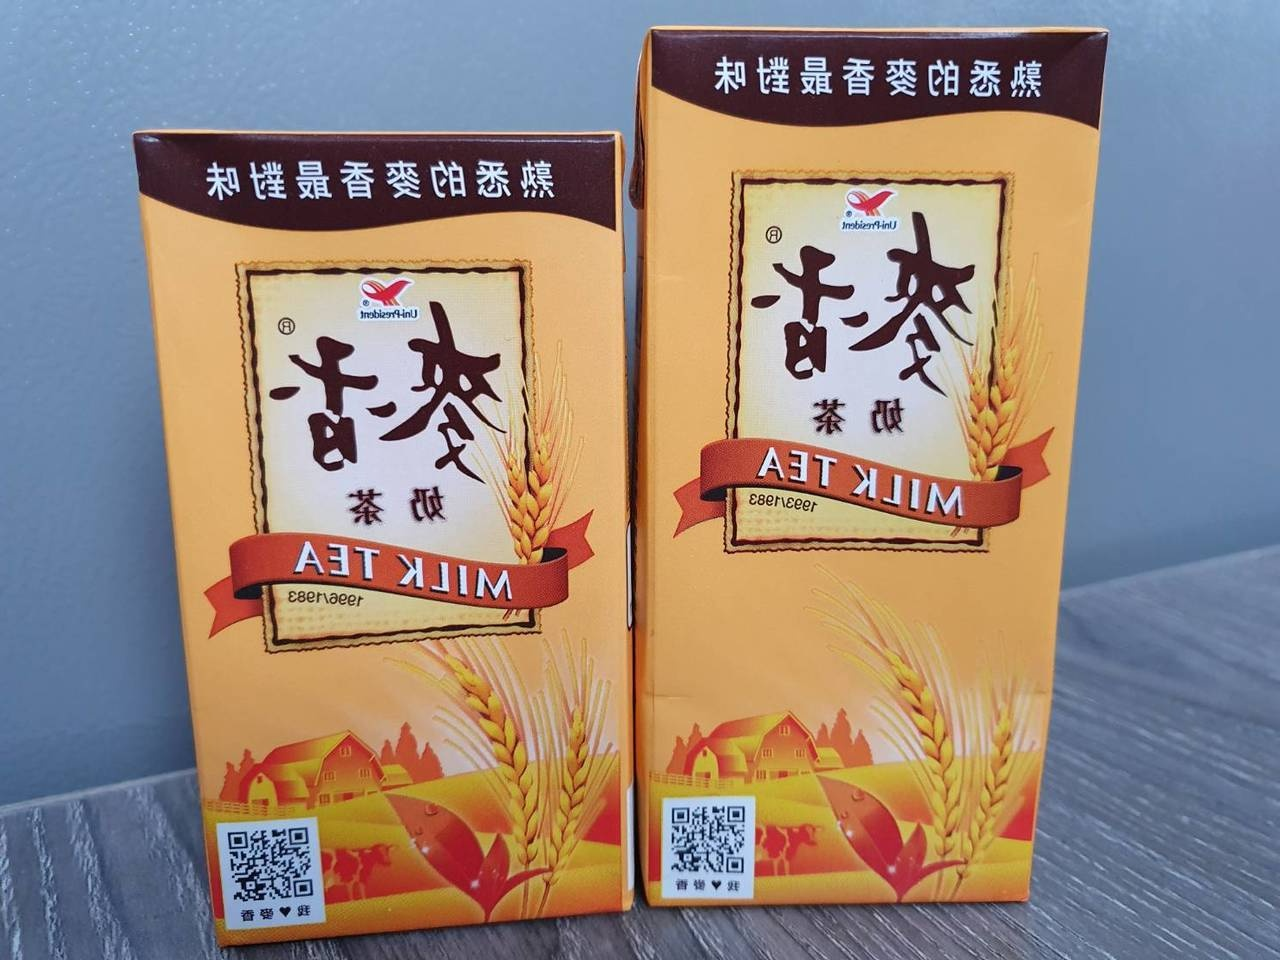鋁箔包: (628, 9, 1125, 921), (116, 110, 628, 960)
